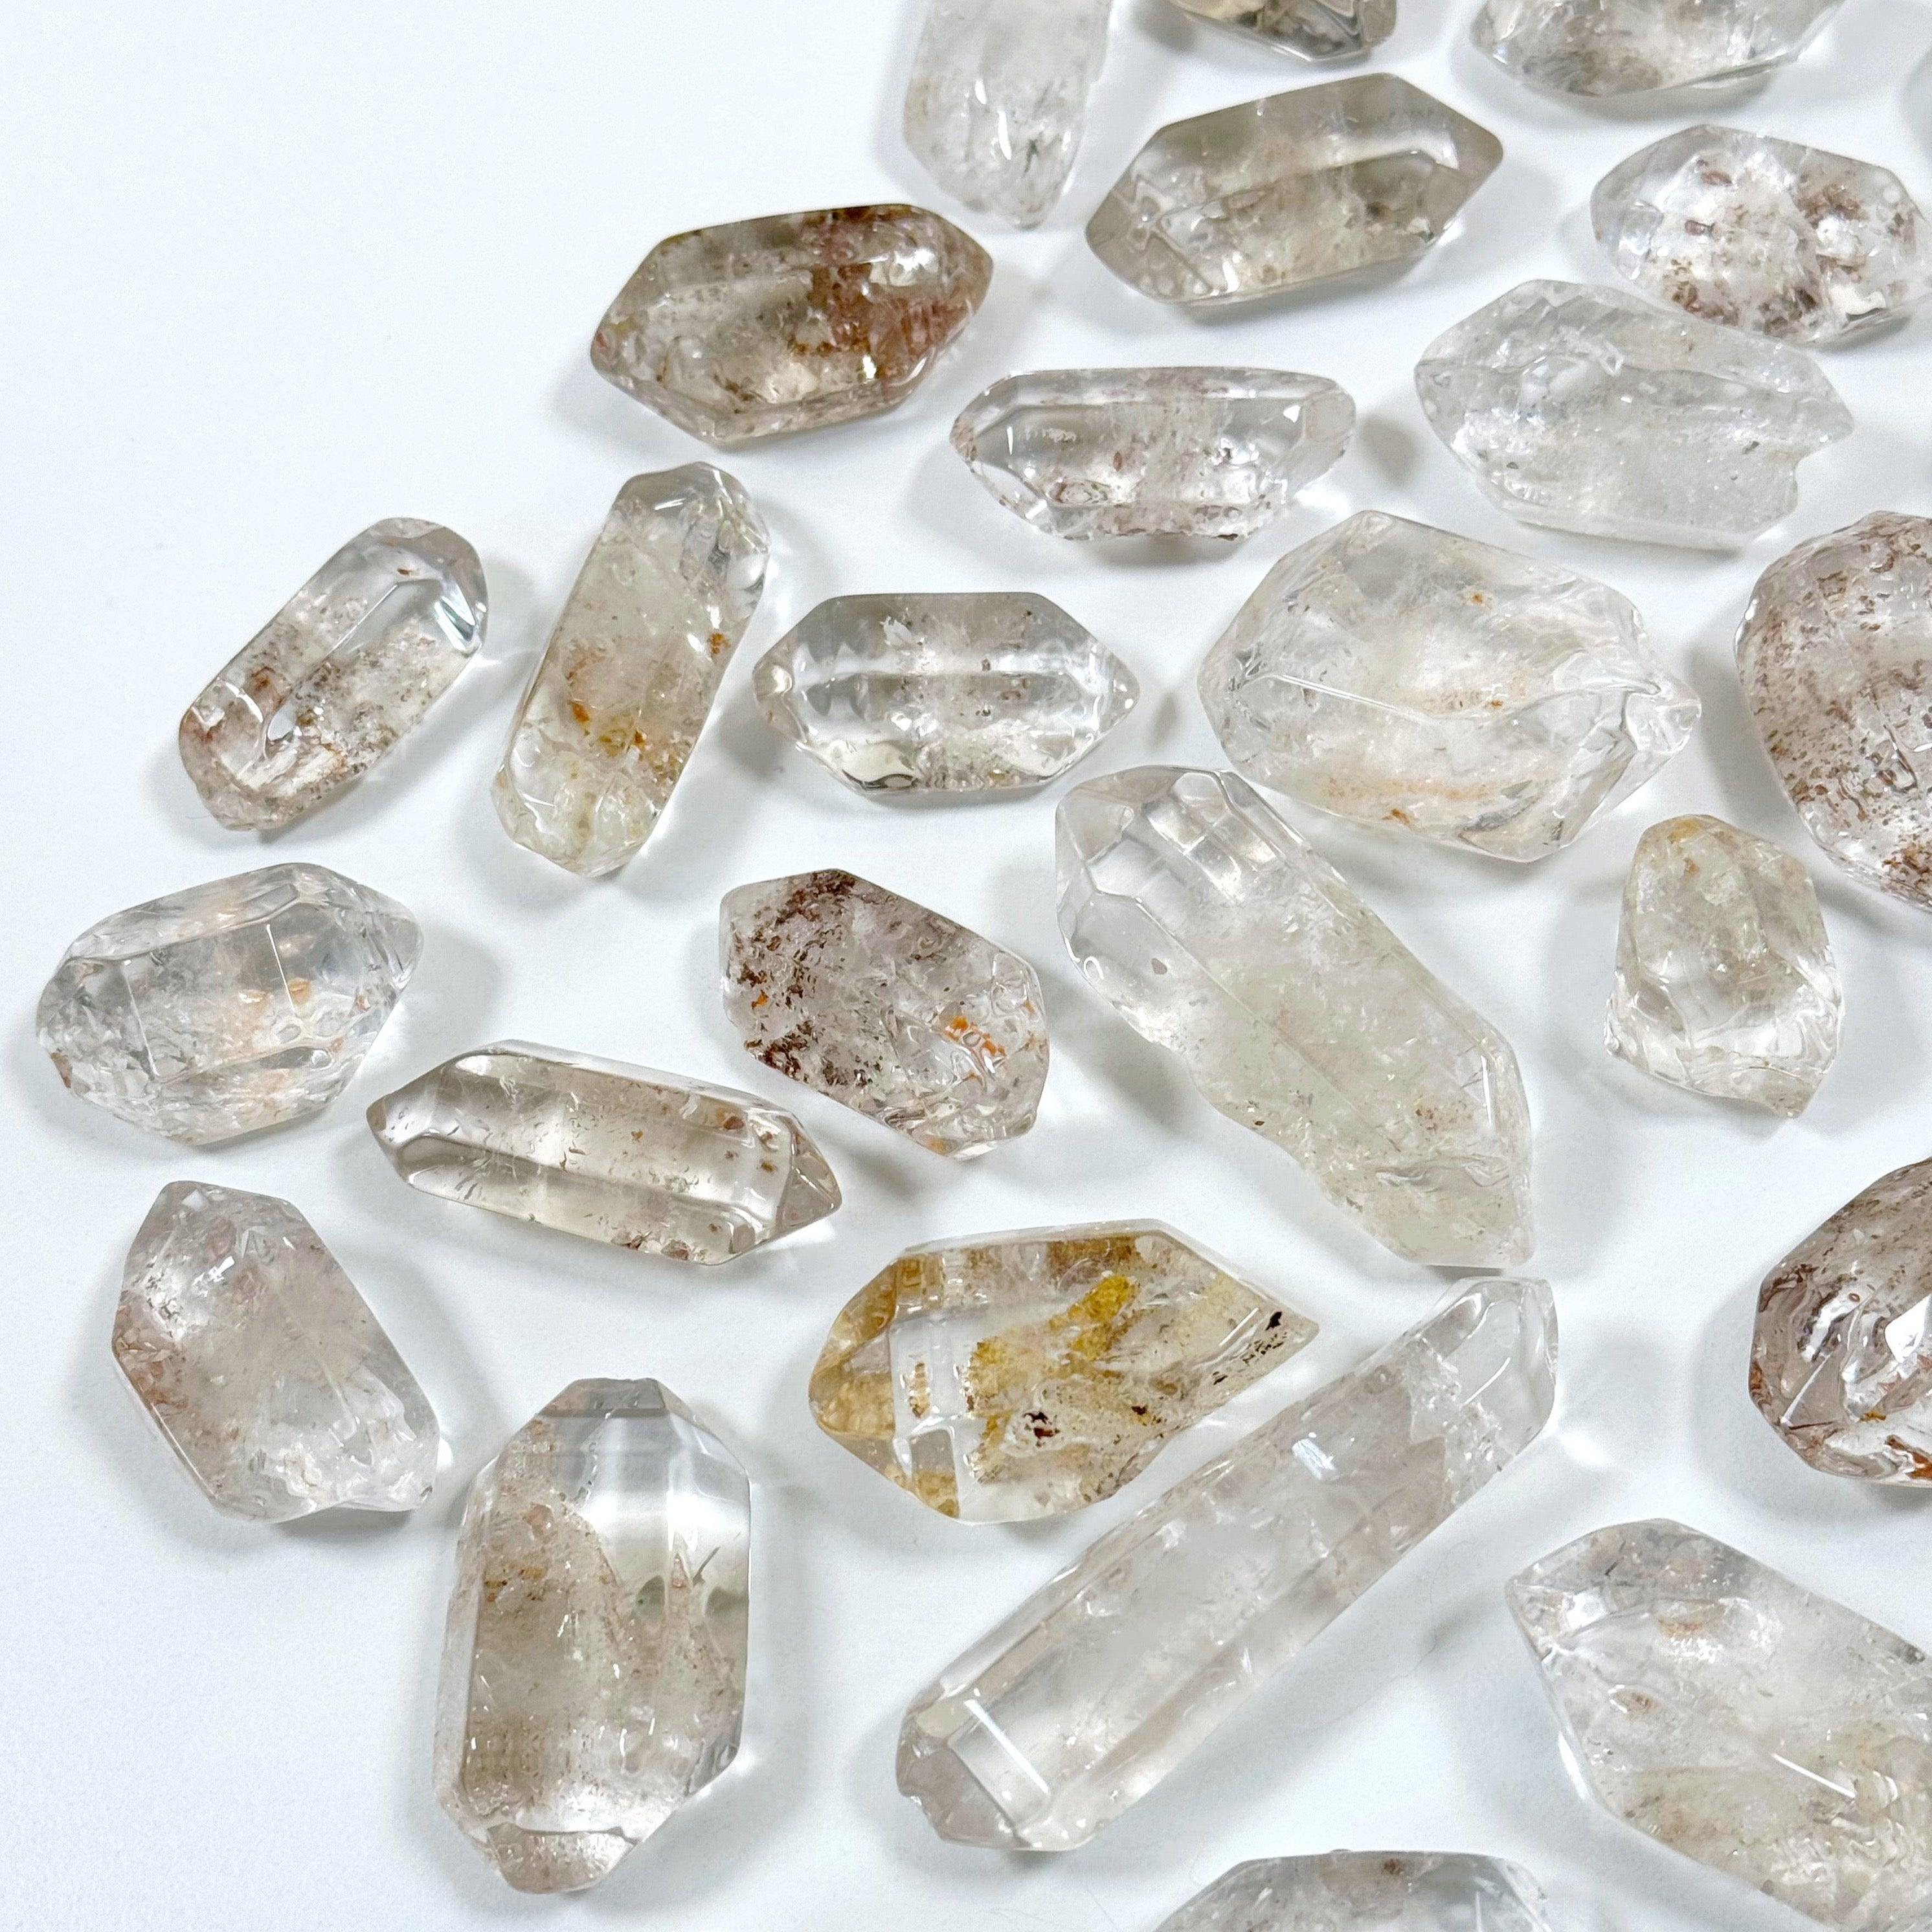Clear_Quartz: (1054, 764, 1548, 1292), (1194, 502, 1716, 874), (1500, 1502, 1932, 1932), (437, 1364, 770, 1909), (794, 1208, 1336, 1541), (39, 1185, 458, 1541), (1401, 262, 1875, 559), (483, 435, 780, 906), (28, 855, 426, 1184), (357, 1021, 840, 1292), (577, 172, 1003, 449), (168, 511, 497, 851), (1077, 73, 1525, 322), (709, 860, 1063, 1173), (950, 334, 1369, 579), (732, 584, 1139, 817), (1598, 803, 1868, 1132)
